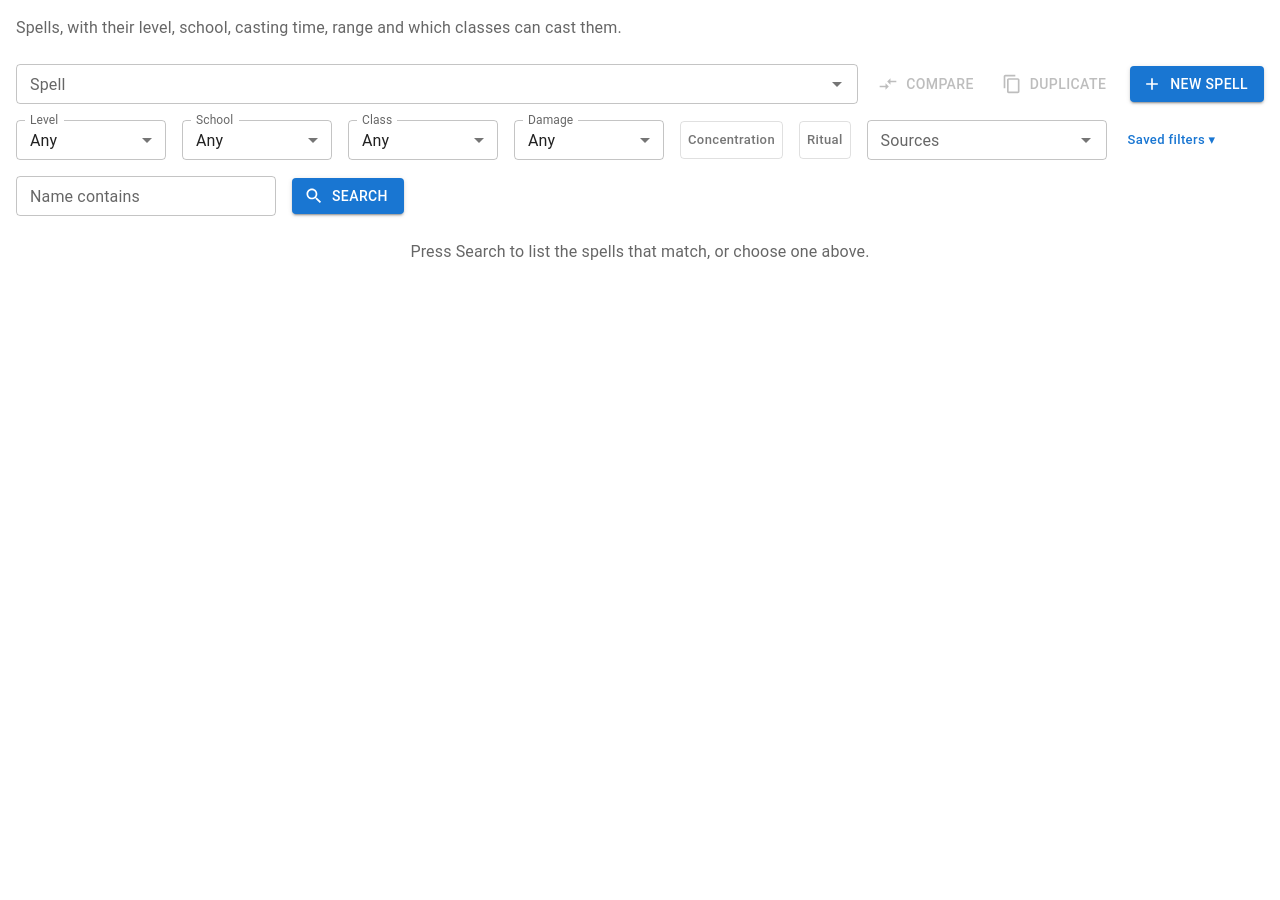
Test: reading a spell › shows it like a spell card
Check: the text "Press Search to list the spells that match, or choose one above." is shown, box [410, 242, 870, 261]
Type "Fireball" into the dropdown labelled "Spell" at (421, 84), box [22, 70, 819, 98]
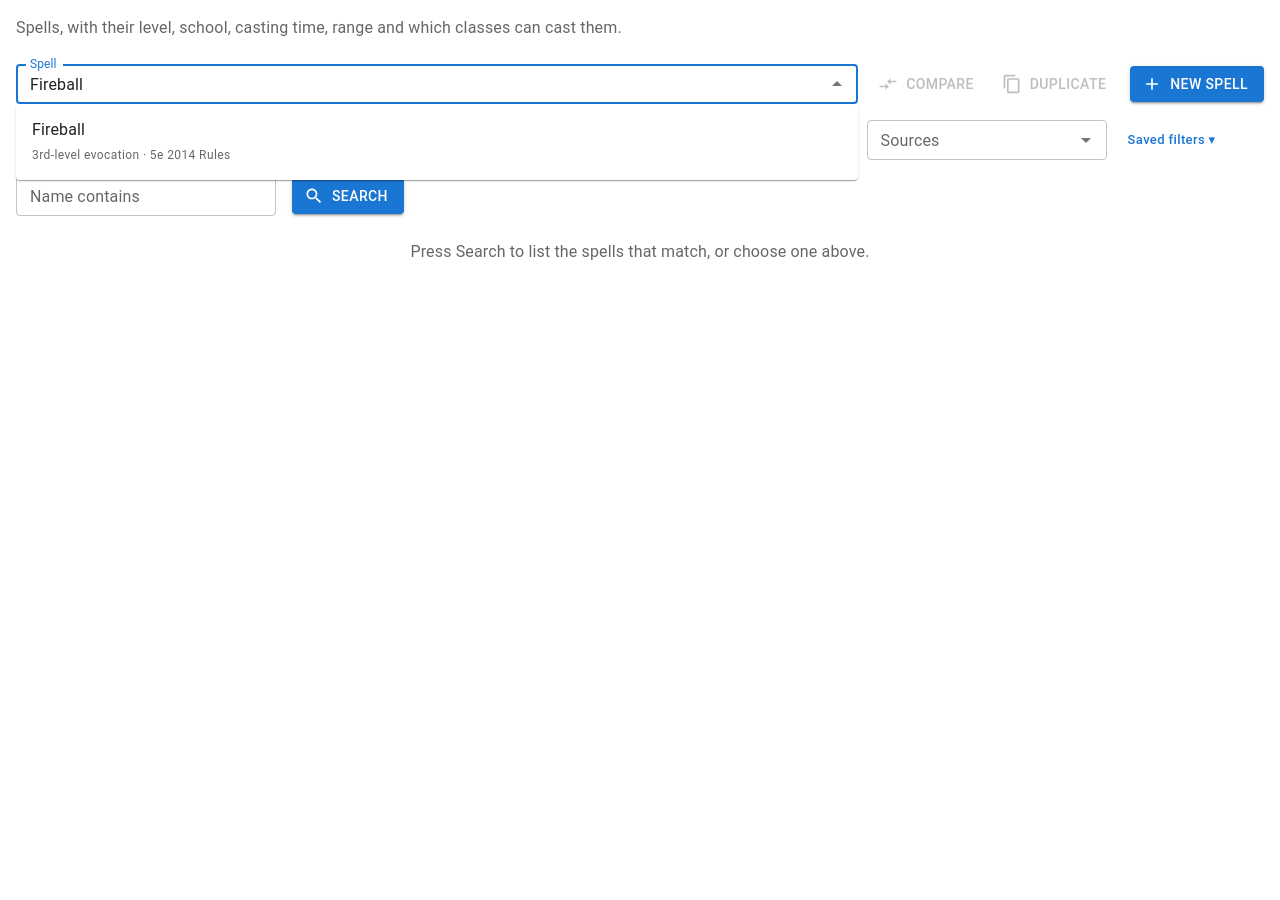
Check: the option "Fireball 3rd-level evocation · 5e 2014 Rules" is shown
Click the option "Fireball 3rd-level evocation · 5e 2014 Rules" at (59, 130), box [32, 120, 231, 162]
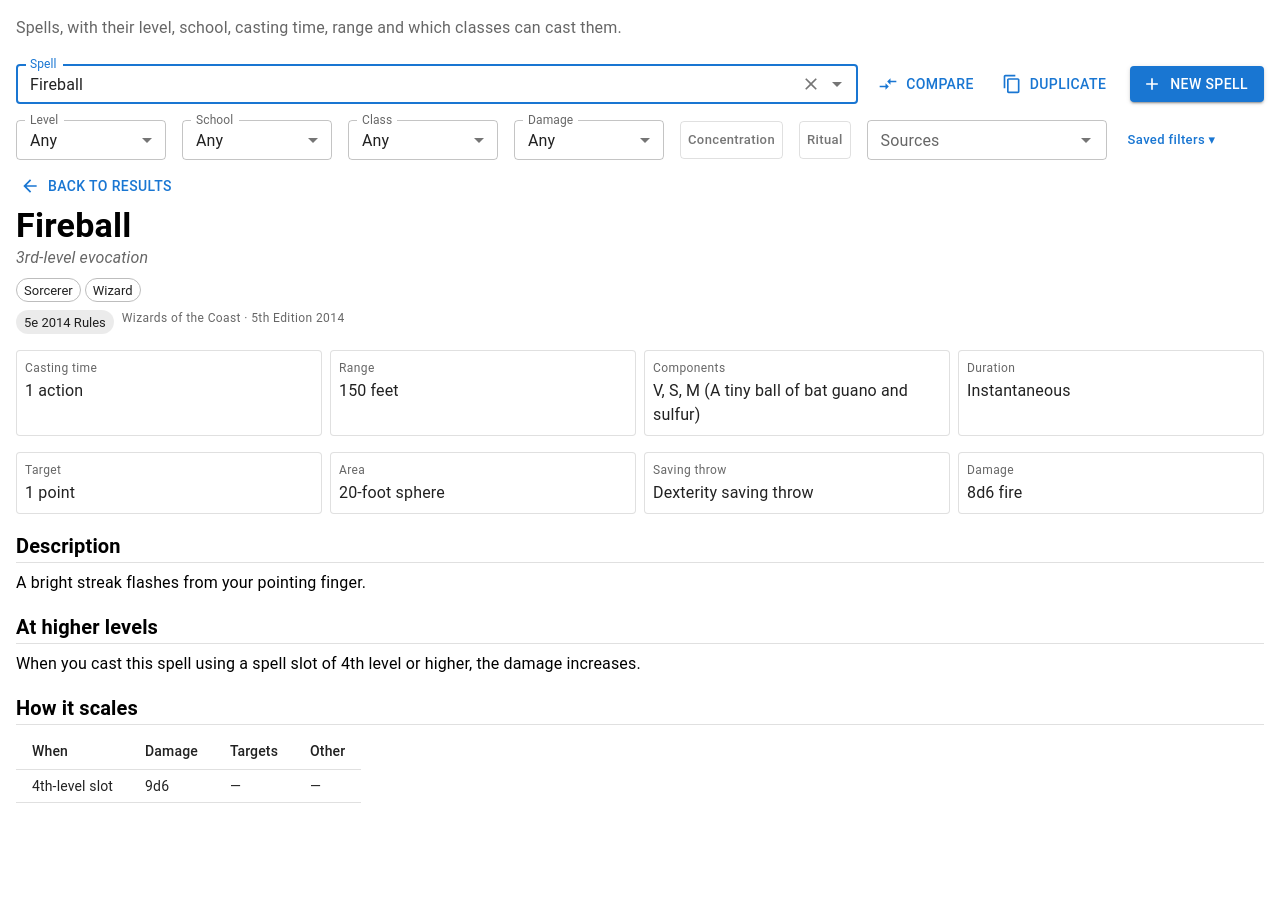
Check: the heading "Fireball" is shown, box [16, 204, 132, 244]
Check: the text "3rd-level evocation" is shown, box [16, 248, 148, 268]
Check: the text "Sorcerer" is shown, box [24, 283, 73, 298]
